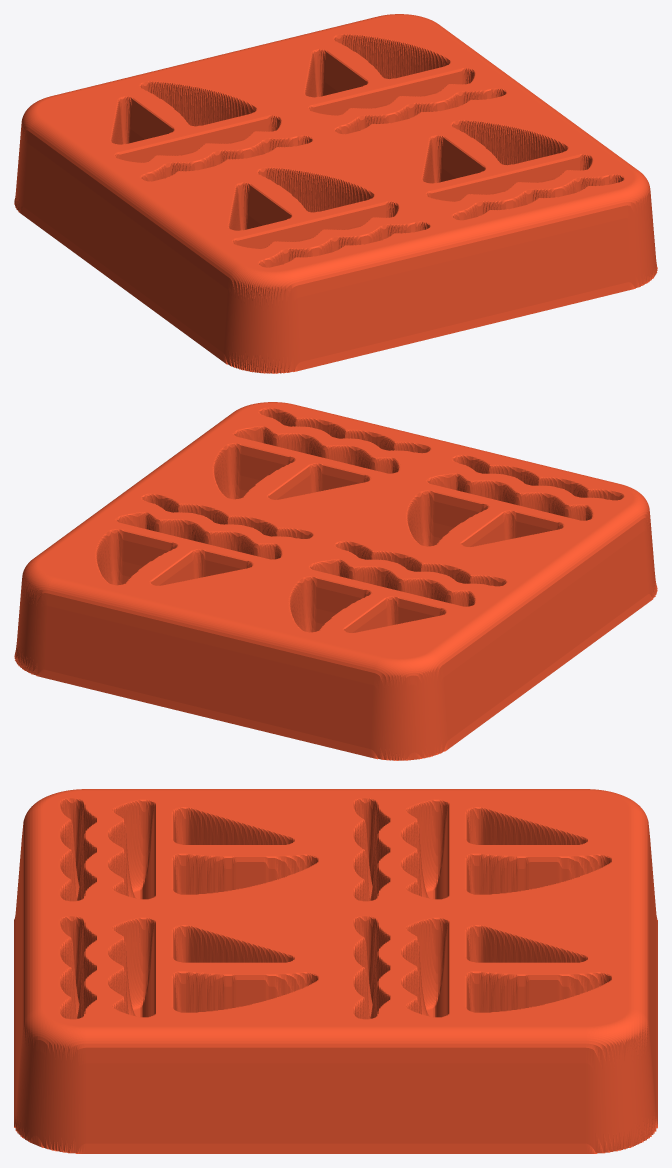
File: mold.glb
The picture shows the model from 3 angles, top to bottom: view 1: azimuth 30°, elevation 25°; view 2: azimuth 150°, elevation 25°; view 3: azimuth 270°, elevation 25°; orthographic projection. The views are drawn at different scales.
Visible parts, largest first — view 1: geometry_0; view 2: geometry_0; view 3: geometry_0.
Part boxes in pixels (box(x1,y1,x2,y2)): geometry_0: box(14, 14, 657, 373); geometry_0: box(14, 402, 657, 760); geometry_0: box(14, 789, 657, 1153).
Bounding box in the file's own units: 0.0772 × 0.0159 × 0.0808.
